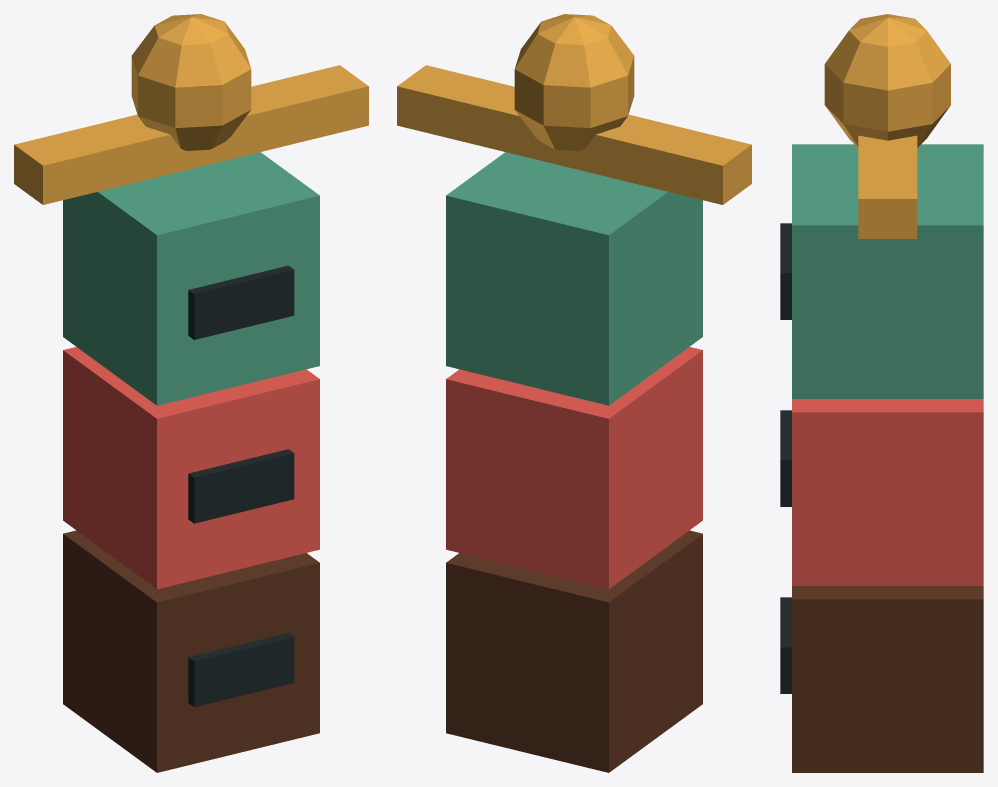
The model's file is ParkParkDecorTotem.obj.
The picture shows the model from 3 angles, left to right: view 1: azimuth 30°, elevation 25°; view 2: azimuth 150°, elevation 25°; view 3: azimuth 270°, elevation 25°; orthographic projection.
Parts seen in each view (by area): view 1: ParkParkDecorTotem; view 2: ParkParkDecorTotem; view 3: ParkParkDecorTotem.
Boxes of the visible parts, box(x1,y1,x2,y2) form: ParkParkDecorTotem: box(14, 14, 368, 772); ParkParkDecorTotem: box(397, 14, 751, 772); ParkParkDecorTotem: box(780, 14, 983, 772).
Bounding box in the file's own units: 2.6 × 5.35 × 1.38.
